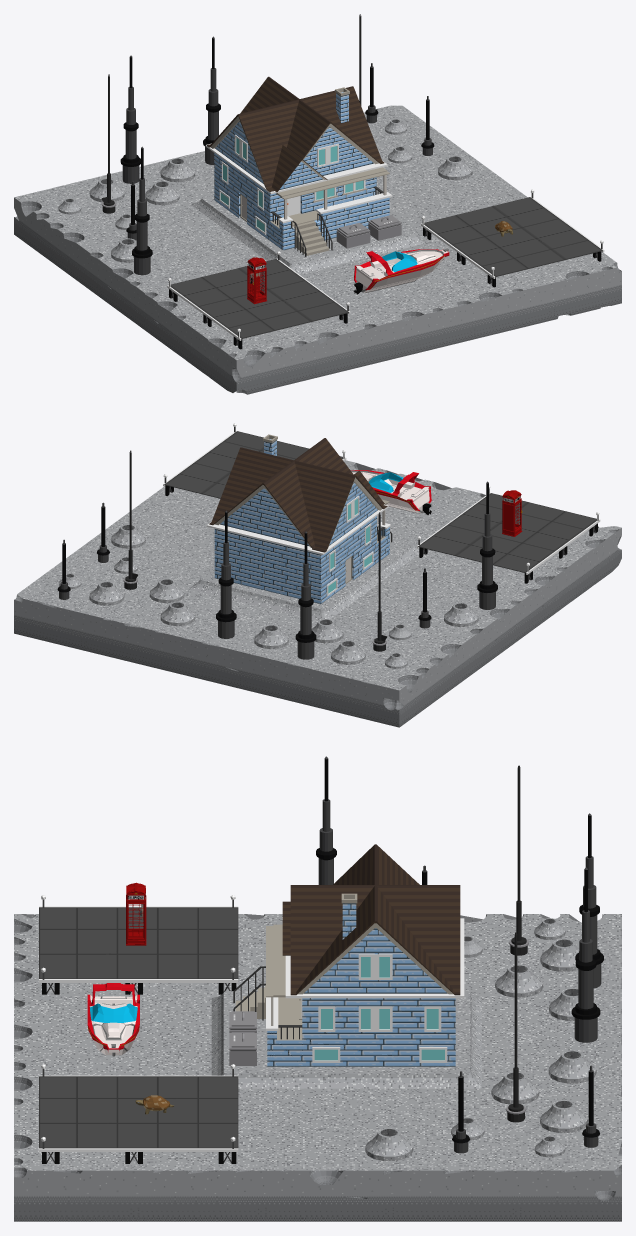
The picture shows the model from 3 angles, top to bottom: view 1: azimuth 30°, elevation 25°; view 2: azimuth 150°, elevation 25°; view 3: azimuth 270°, elevation 25°; orthographic projection. The views are drawn at different scales.
Parts seen in each view (by area): view 1: Cube.027, Cube.547, Cube.026, Cube.025, Cube.028, VEHICLES_BOAT, Cylinder.020, Cylinder.021, Cylinder.017, OBJRANDOM_PHONEBOOTH, Cube.029, Cube.030 (+4 smaller); view 2: Cube.027, Cube.547, Cube.025, Cube.028, Cube.026, VEHICLES_BOAT, Cylinder.020, Cylinder.021, Cylinder.017, OBJRANDOM_PHONEBOOTH, Cylinder.031, Cylinder.028 (+8 smaller); view 3: Cube.027, Cube.547, Cube.026, Cube.025, Cube.028, VEHICLES_BOAT, Cylinder.017, Cylinder.020, Cylinder.021, OBJRANDOM_PHONEBOOTH, Cylinder.033, Cylinder.031 (+10 smaller).
Boxes of the visible parts, box(x1,y1,x2,y2) form: Cube.027: box(14, 105, 621, 394); Cube.547: box(205, 76, 392, 256); Cube.026: box(421, 189, 604, 287); Cube.025: box(167, 251, 350, 349); Cube.028: box(191, 195, 424, 274); VEHICLES_BOAT: box(353, 248, 449, 294); Cylinder.020: box(120, 55, 140, 183); Cylinder.021: box(132, 146, 152, 275); Cylinder.017: box(203, 36, 220, 164); OBJRANDOM_PHONEBOOTH: box(247, 257, 266, 304); Cube.029: box(336, 222, 370, 248); Cube.030: box(368, 215, 401, 240); Cube.027: box(14, 460, 621, 727); Cube.547: box(206, 434, 392, 603); Cube.025: box(417, 485, 600, 583); Cube.028: box(190, 538, 419, 620); Cube.026: box(163, 423, 346, 498); VEHICLES_BOAT: box(351, 470, 431, 515); Cylinder.020: box(295, 531, 316, 659); Cylinder.021: box(477, 481, 497, 609); Cylinder.017: box(216, 510, 236, 638); OBJRANDOM_PHONEBOOTH: box(502, 490, 522, 536); Cylinder.031: box(89, 581, 124, 605); Cylinder.028: box(331, 640, 365, 664); Cube.027: box(14, 914, 621, 1221); Cube.547: box(233, 844, 464, 1066); Cube.026: box(39, 1064, 238, 1163); Cube.025: box(39, 895, 238, 994); Cube.028: box(211, 991, 481, 1088); VEHICLES_BOAT: box(87, 983, 139, 1056); Cylinder.017: box(571, 867, 600, 1042); Cylinder.020: box(575, 813, 603, 988); Cylinder.021: box(316, 756, 336, 884); OBJRANDOM_PHONEBOOTH: box(126, 882, 146, 945); Cylinder.033: box(365, 1128, 413, 1160); Cylinder.031: box(540, 1100, 587, 1132).
Bounding box in the file's own units: 4000 × 1807 × 4000.
Materials: 39 (5 with a texture image).
